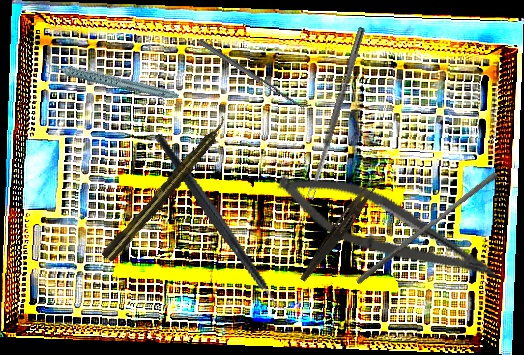Chopper: (152, 111, 299, 338)
Dressing Forceps: (298, 168, 385, 286)
Handpiece: (99, 113, 234, 265), (41, 30, 181, 127)
Micro Scissor: (267, 159, 511, 295)
Pusher: (355, 166, 499, 291)
Spatula Surgical: (197, 34, 313, 114)
Surgical Spoon: (305, 26, 366, 200)
